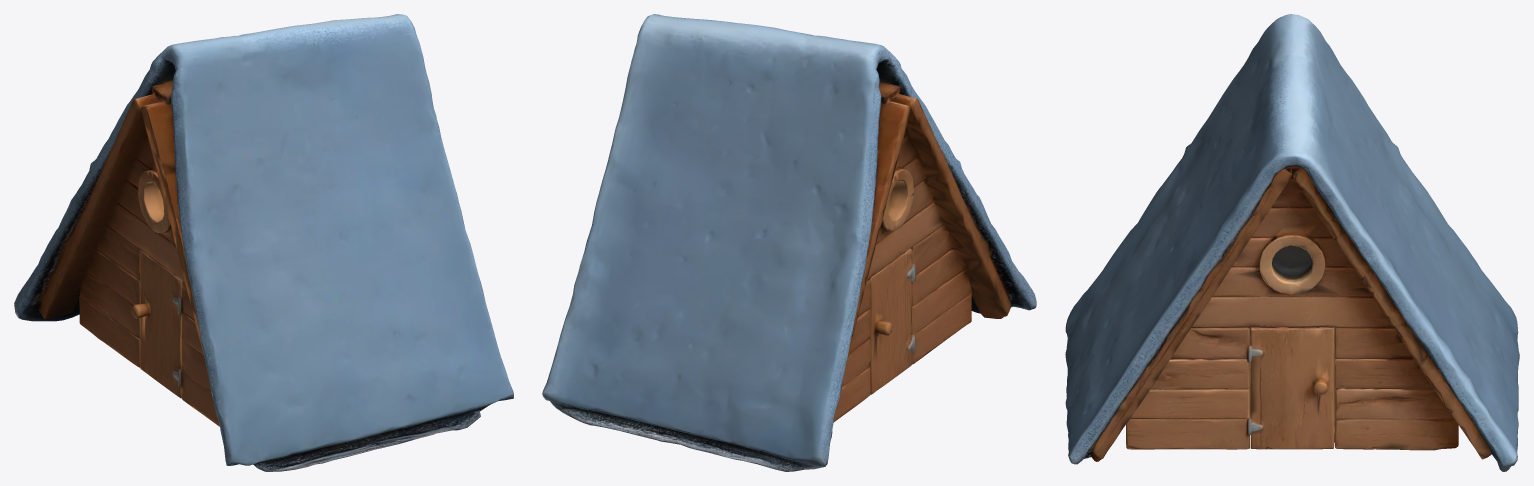
The model's file is aframe.glb.
3 views of the same model, side by side, from view 1: azimuth 30°, elevation 25°; view 2: azimuth 150°, elevation 25°; view 3: azimuth 270°, elevation 25° (orthographic). The views are drawn at different scales.
Parts seen in each view (by area): view 1: tripo_node_5b9fadf3-3b91-4248-bd07-f02801d20c5c; view 2: tripo_node_5b9fadf3-3b91-4248-bd07-f02801d20c5c; view 3: tripo_node_5b9fadf3-3b91-4248-bd07-f02801d20c5c.
Boxes of the visible parts, bbox=[...] form: tripo_node_5b9fadf3-3b91-4248-bd07-f02801d20c5c: bbox=[14, 14, 513, 471]; tripo_node_5b9fadf3-3b91-4248-bd07-f02801d20c5c: bbox=[542, 14, 1036, 471]; tripo_node_5b9fadf3-3b91-4248-bd07-f02801d20c5c: bbox=[1065, 14, 1519, 471].
Bounding box in the file's own units: 0.7458 × 0.8686 × 1.
1 material, 1 textured.
